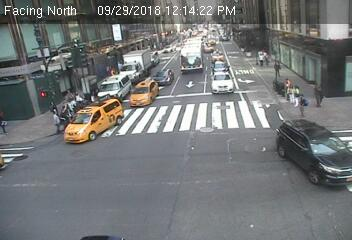car: (273, 117, 352, 187), (64, 99, 123, 138), (119, 51, 151, 78), (181, 38, 202, 74), (129, 78, 157, 104), (98, 73, 127, 98), (209, 70, 237, 94), (155, 68, 173, 87), (210, 61, 230, 76), (148, 49, 158, 66), (209, 50, 224, 61), (202, 42, 214, 52)
